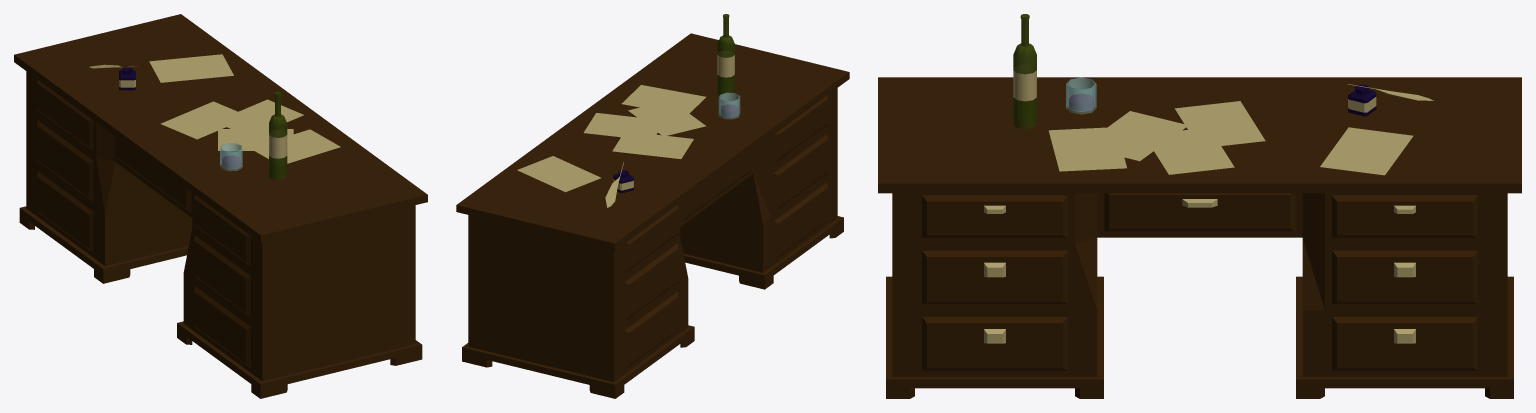
The model's file is FBX_BUREAU.fbx.
3 renders of one model, left to right at view 1: azimuth 30°, elevation 25°; view 2: azimuth 150°, elevation 25°; view 3: azimuth 270°, elevation 25°, orthographic. The views are drawn at different scales.
Visible parts, largest first — view 1: BUREAU, LETTRE4, LETTRE2, LETTRE1, pCylinder3, LETTRE3, LETTRE, pPipe1, pCube36; view 2: BUREAU, LETTRE2, LETTRE4, LETTRE3, LETTRE1, pCylinder3, LETTRE, pPipe1, pCube36; view 3: BUREAU, LETTRE2, LETTRE3, LETTRE4, LETTRE1, pCylinder3, LETTRE, pPipe1, pCube36.
Part boxes in pixels (box(x1,y1,x2,y2)): BUREAU: box(14, 14, 427, 398); LETTRE4: box(149, 54, 233, 82); LETTRE2: box(215, 99, 303, 137); LETTRE1: box(160, 101, 237, 139); pCylinder3: box(269, 91, 287, 179); LETTRE3: box(250, 129, 340, 163); LETTRE: box(218, 129, 293, 150); pPipe1: box(220, 143, 242, 171); pCube36: box(119, 67, 135, 90); BUREAU: box(456, 33, 849, 398); LETTRE2: box(583, 113, 664, 140); LETTRE4: box(517, 156, 601, 192); LETTRE3: box(621, 85, 705, 115); LETTRE1: box(612, 134, 693, 158); pCylinder3: box(717, 14, 734, 97); LETTRE: box(628, 107, 706, 136); pPipe1: box(718, 92, 740, 119); pCube36: box(613, 170, 633, 193); BUREAU: box(878, 77, 1521, 398); LETTRE2: box(1144, 127, 1234, 174); LETTRE3: box(1048, 127, 1126, 171); LETTRE4: box(1320, 127, 1413, 175); LETTRE1: box(1174, 101, 1265, 145); pCylinder3: box(1013, 14, 1036, 129); LETTRE: box(1107, 111, 1186, 161); pPipe1: box(1066, 77, 1096, 114); pCube36: box(1348, 84, 1376, 116).
Size of the model in its own units: 54.61 by 77.77 by 139.
